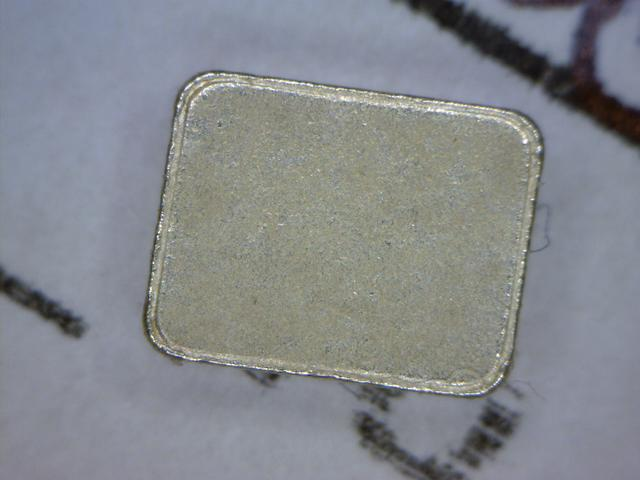nok: (143, 69, 544, 398)
